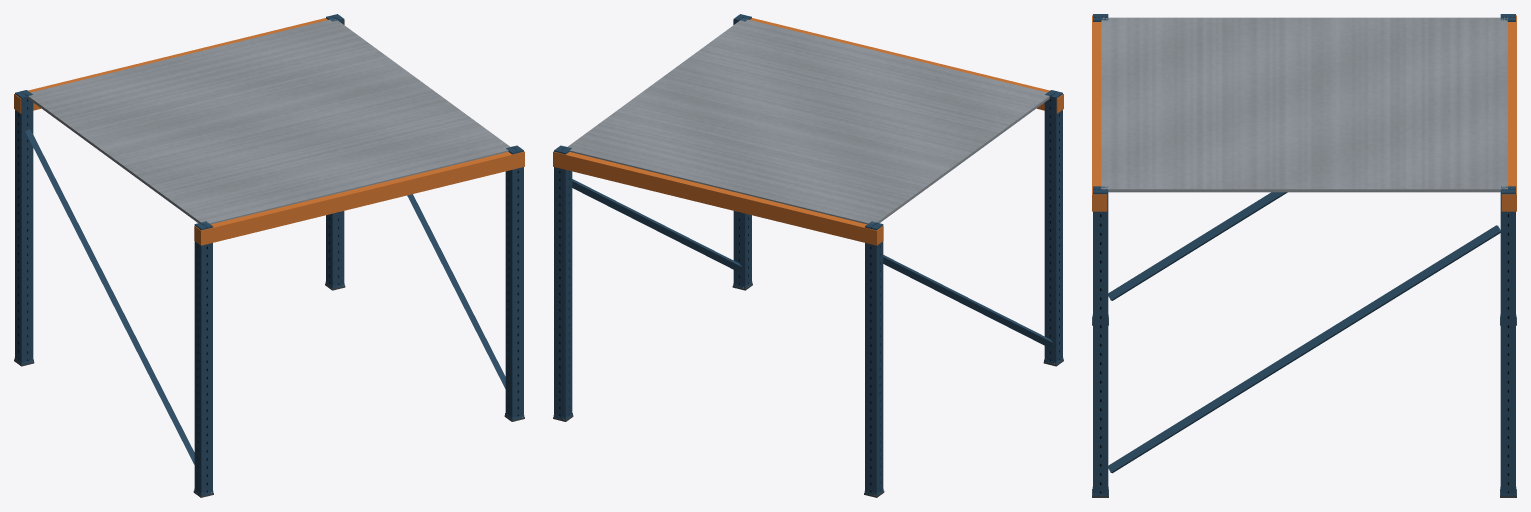
The model's file is storage-rack-1-tier.glb.
3 views of the same model, side by side, from view 1: azimuth 30°, elevation 25°; view 2: azimuth 150°, elevation 25°; view 3: azimuth 270°, elevation 25° (orthographic). The views are drawn at different scales.
Visible parts, largest first — view 1: storage-deck-1, rack-beam-1--1205, rack-upright--1200-1200, rack-upright--1200--1200, rack-upright-1200--1200, rack-diagonal-brace (×2), rack-upright-1200-1200, rack-beam-1-1205; view 2: storage-deck-1, rack-beam-1-1205, rack-upright--1200--1200, rack-upright--1200-1200, rack-upright-1200-1200, rack-diagonal-brace (×2), rack-upright-1200--1200, rack-beam-1--1205; view 3: storage-deck-1, rack-diagonal-brace (×2), rack-upright-1200-1200, rack-upright-1200--1200, rack-beam-1--1205, rack-beam-1-1205.
Part boxes in pixels (box(x1,y1,x2,y2)): storage-deck-1: box(28, 19, 510, 224); rack-beam-1--1205: box(194, 151, 524, 245); rack-upright--1200-1200: box(15, 90, 33, 362); rack-upright--1200--1200: box(194, 221, 212, 493); rack-upright-1200--1200: box(505, 145, 523, 417); rack-diagonal-brace (×2): box(25, 129, 505, 464); rack-upright-1200-1200: box(326, 14, 344, 286); rack-beam-1-1205: box(14, 18, 344, 113); storage-deck-1: box(567, 18, 1049, 224); rack-beam-1-1205: box(553, 151, 883, 245); rack-upright--1200--1200: box(1044, 90, 1062, 362); rack-upright--1200-1200: box(865, 221, 883, 493); rack-upright-1200-1200: box(554, 145, 572, 417); rack-diagonal-brace (×2): box(572, 179, 1053, 347); rack-upright-1200--1200: box(733, 14, 751, 286); rack-beam-1--1205: box(733, 18, 1063, 113); storage-deck-1: box(1101, 17, 1507, 192); rack-diagonal-brace (×2): box(1108, 192, 1500, 473); rack-upright-1200-1200: box(1500, 186, 1515, 493); rack-upright-1200--1200: box(1093, 186, 1108, 493); rack-beam-1--1205: box(1092, 15, 1107, 211); rack-beam-1-1205: box(1501, 15, 1516, 211).
Bounding box in the file's own units: 2.5 × 1.98 × 2.5.
Materials: 6 (2 with a texture image).
